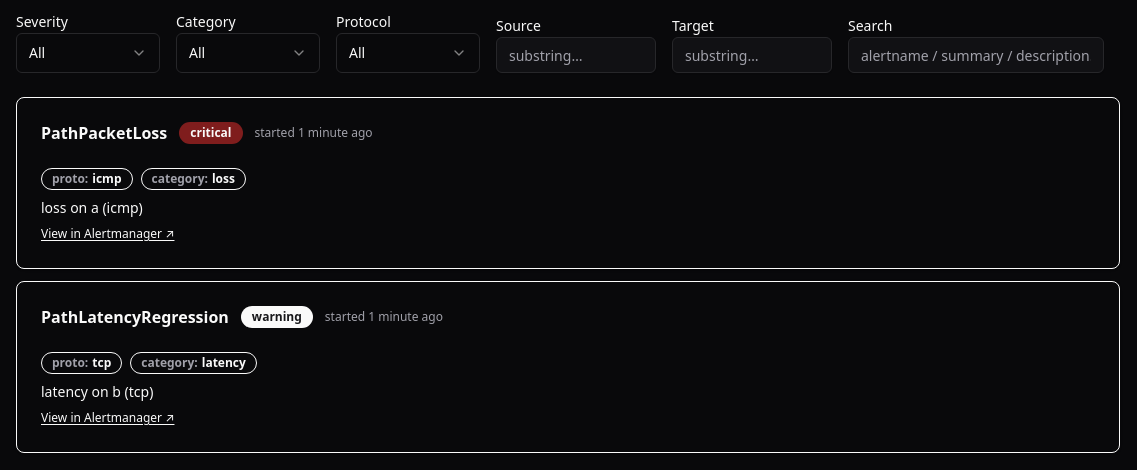
Scenario: Alerts page › filters by protocol via dropdown
expect the heading "PathPacketLoss" is shown: met, box [41,125,167,141]
expect the heading "PathLatencyRegression" is shown: met, box [41,309,229,325]
Click the dropdown named "protocol": (408, 53) [336,33,480,73]
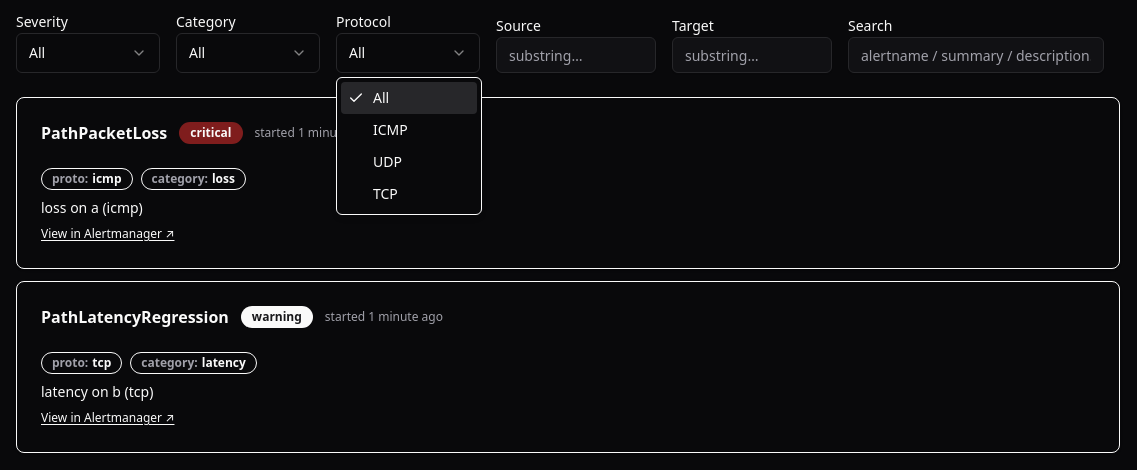
Click the option "ICMP": (390, 130) [373,120,408,139]
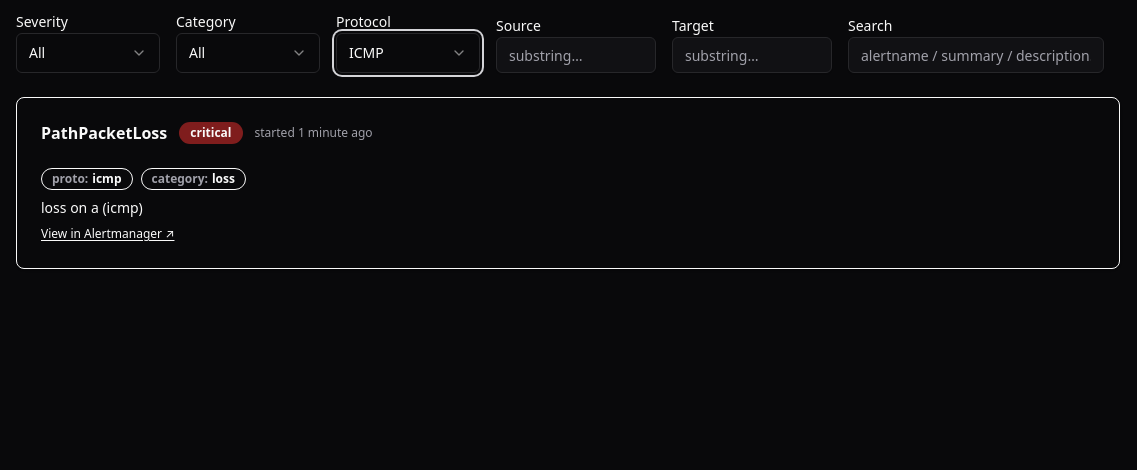
expect the heading "PathPacketLoss" is shown: met, box [41,125,167,141]
expect the heading "PathLatencyRegression" is gone: met
